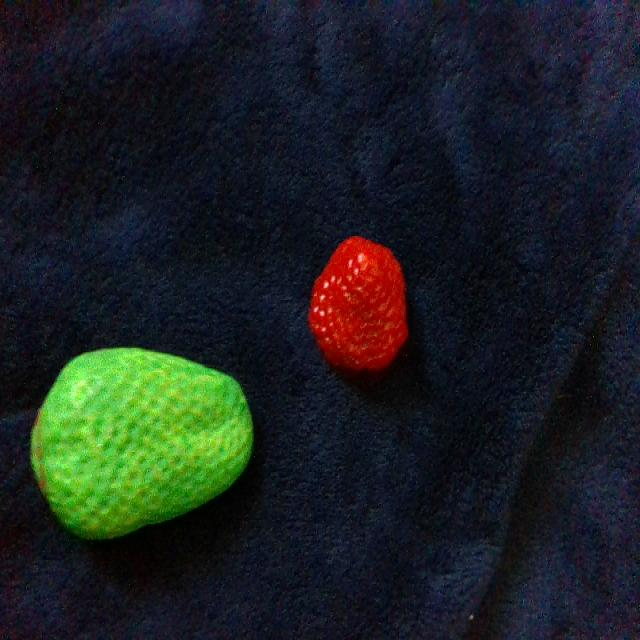chica_roja: (310, 236, 407, 368)
verde: (31, 348, 252, 537)
